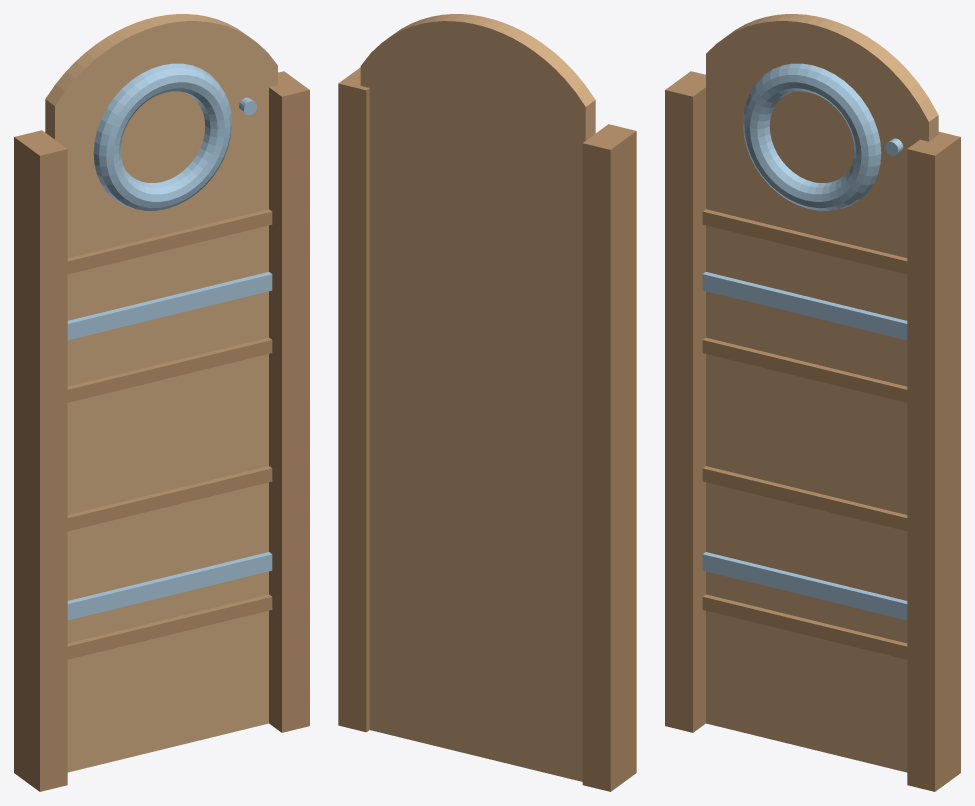
Rendered from arch-door-v2.glb.
3 renders of one model, left to right at view 1: azimuth 30°, elevation 25°; view 2: azimuth 150°, elevation 25°; view 3: azimuth 330°, elevation 25°, orthographic.
Parts seen in each view (by area): view 1: door_leaf, door_jamb_l, door_jamb_r, door_porthole_ring, door_band_0, door_band_1, door_slat_1, door_slat_3, door_slat_0, door_slat_2; view 2: door_leaf, door_jamb_l, door_jamb_r; view 3: door_leaf, door_jamb_r, door_jamb_l, door_porthole_ring, door_band_0, door_band_1, door_slat_3, door_slat_0, door_slat_1, door_slat_2.
Part boxes in pixels (bbox=[...]): door_leaf: bbox=[45, 14, 277, 772]; door_jamb_l: bbox=[14, 130, 67, 791]; door_jamb_r: bbox=[269, 71, 309, 732]; door_porthole_ring: bbox=[93, 63, 232, 210]; door_band_0: bbox=[67, 552, 272, 620]; door_band_1: bbox=[67, 272, 272, 340]; door_slat_1: bbox=[67, 466, 272, 531]; door_slat_3: bbox=[67, 209, 272, 274]; door_slat_0: bbox=[67, 594, 272, 659]; door_slat_2: bbox=[67, 337, 272, 402]; door_leaf: bbox=[360, 14, 595, 781]; door_jamb_l: bbox=[582, 124, 636, 791]; door_jamb_r: bbox=[338, 67, 369, 732]; door_leaf: bbox=[706, 14, 938, 772]; door_jamb_r: bbox=[907, 131, 960, 791]; door_jamb_l: bbox=[665, 71, 705, 732]; door_porthole_ring: bbox=[742, 63, 881, 210]; door_band_0: bbox=[702, 552, 907, 620]; door_band_1: bbox=[702, 272, 907, 340]; door_slat_3: bbox=[702, 209, 907, 274]; door_slat_0: bbox=[702, 594, 907, 659]; door_slat_1: bbox=[702, 466, 907, 531]; door_slat_2: bbox=[702, 337, 907, 402].
Size of the model in its own units: 0.968 by 2.48 by 0.16.
